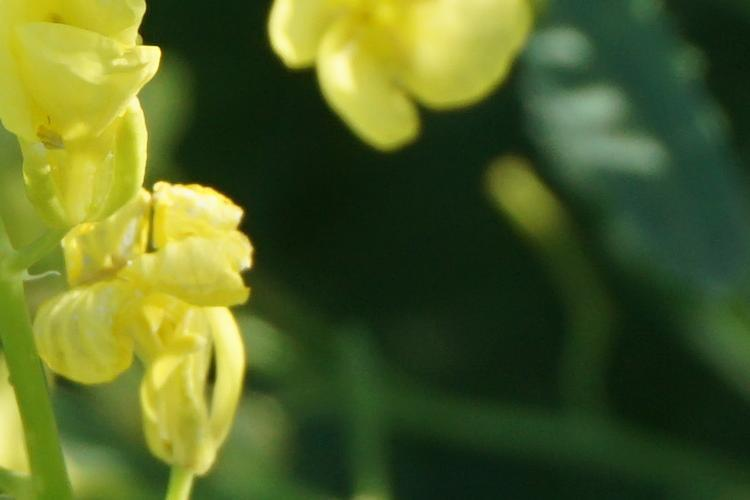yellow: (51, 189, 261, 451), (287, 5, 521, 164), (21, 10, 174, 210)
